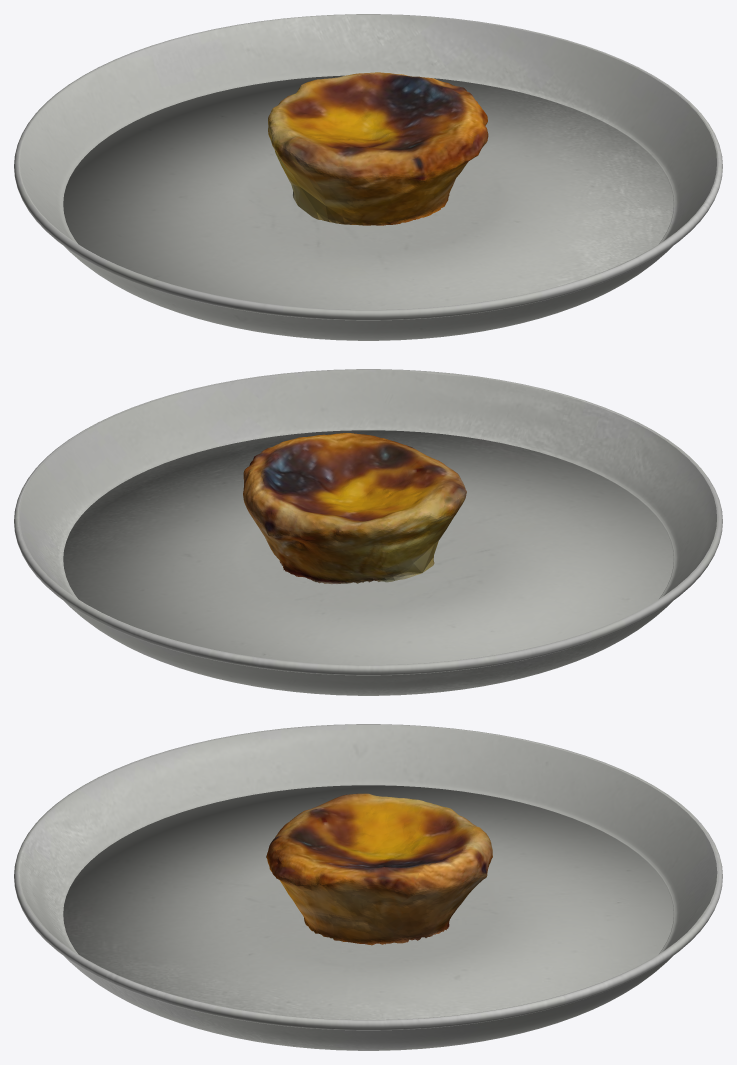
File: PastelDeNata.glb
The picture shows the model from 3 angles, top to bottom: view 1: azimuth 30°, elevation 25°; view 2: azimuth 150°, elevation 25°; view 3: azimuth 270°, elevation 25°; orthographic projection.
Parts seen in each view (by area): view 1: Circle.001; view 2: Circle.001; view 3: Circle.001.
Boxes of the visible parts, x1,y1,x2,y2 form: Circle.001: [14, 14, 722, 340]; Circle.001: [14, 369, 722, 695]; Circle.001: [14, 724, 722, 1050].
Size of the model in its own units: 0.2833 by 0.0469 by 0.2835.
Materials: 2 (2 with a texture image).
